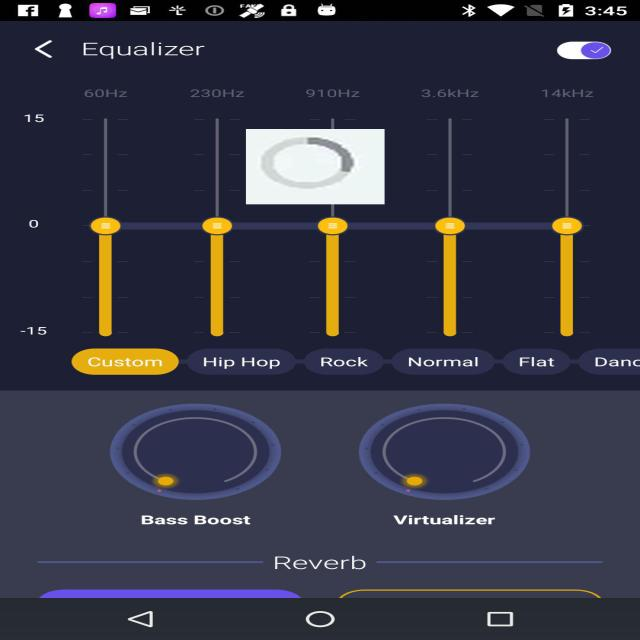misdirection: (246, 129, 385, 204)
